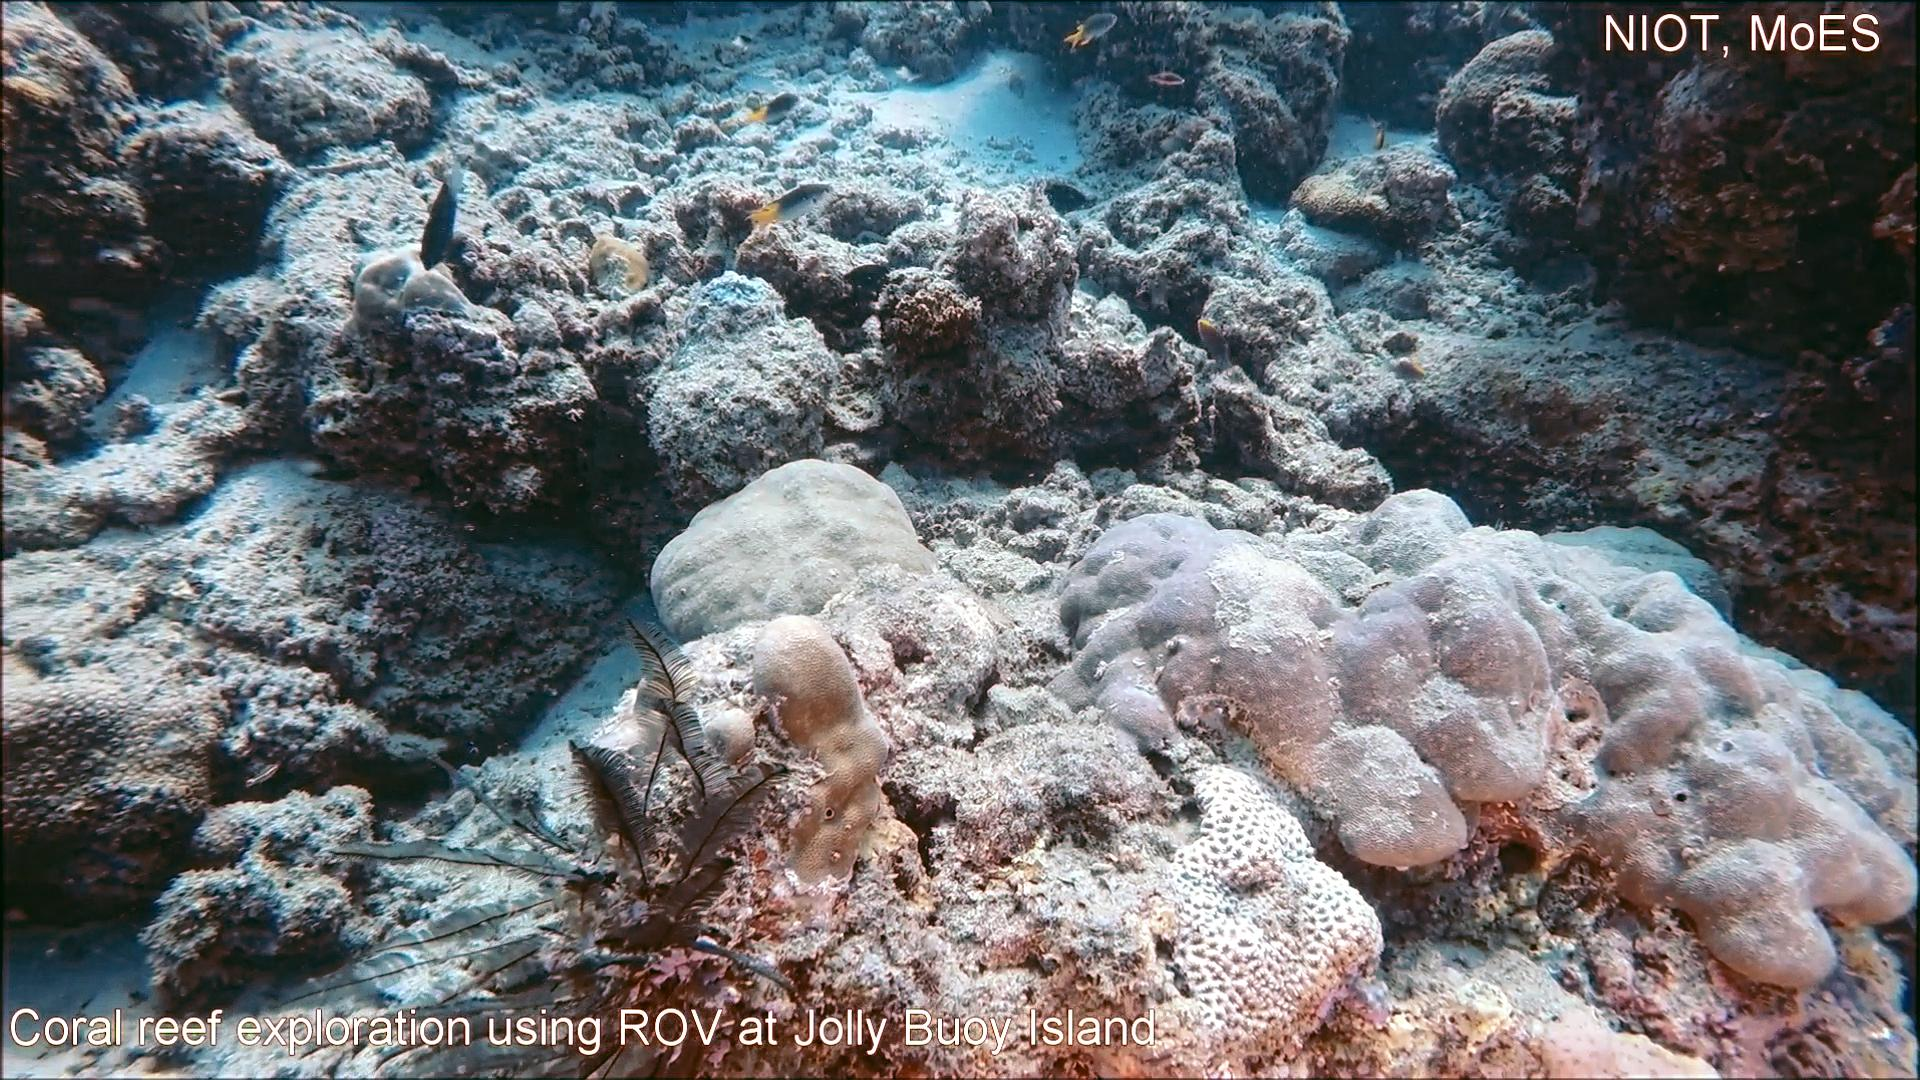Feather star-Crinoid star: (266, 608, 850, 1080)
Goniastrea-Goniastrea pectinata: (1146, 752, 1390, 1073)
Porites-Porites pukoensis: (1438, 494, 1920, 999)
Turbinaria-Turbinaria stellulata: (0, 668, 235, 911)
